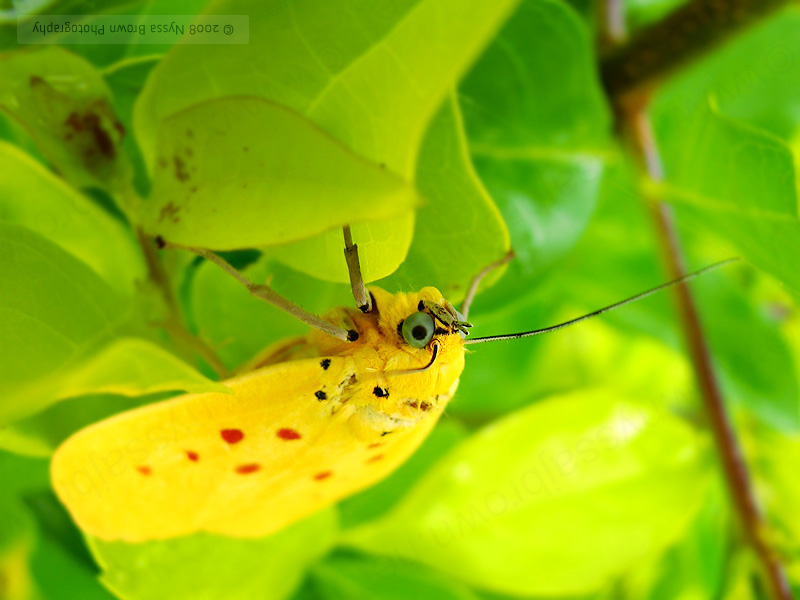Agape chloropyga: (39, 216, 732, 553)
moth: (41, 218, 734, 555)
